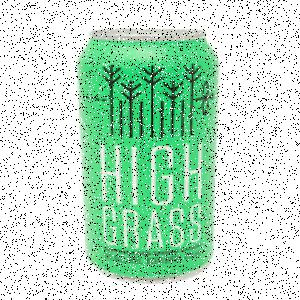Can: (79, 28, 221, 284)
